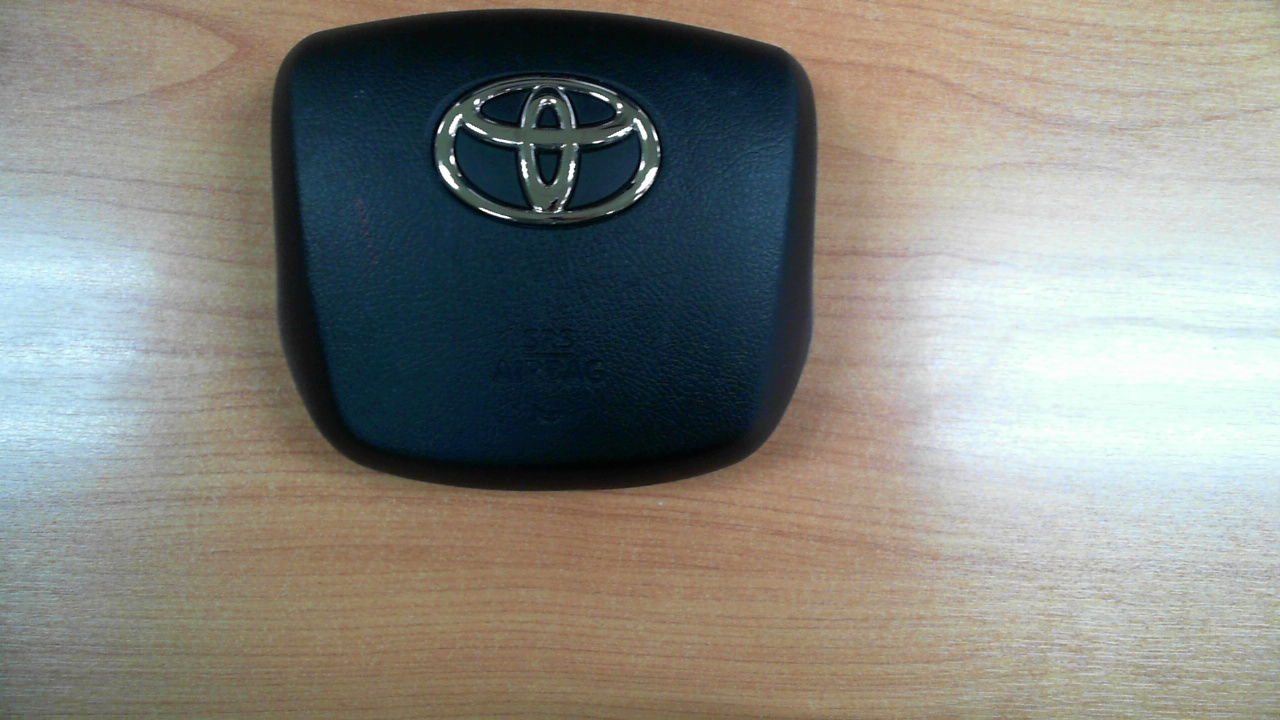Airbag: (254, 0, 814, 486)
Toyota: (434, 76, 662, 225)
